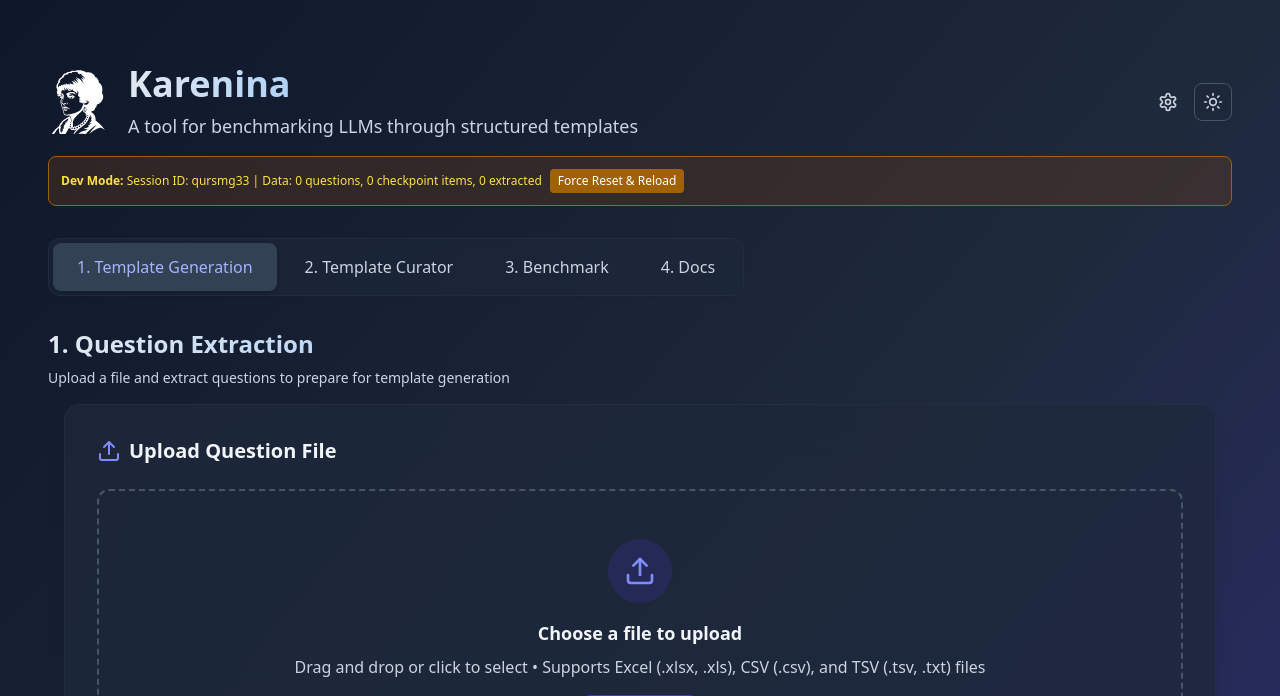
Test: App Component › Error Handling › should show appropriate messages for different empty states
# Curator tab with no question data
Step 1. Click the button "2. Template Curator" → (379, 267), box [281,243,477,291]
(page scrolled)
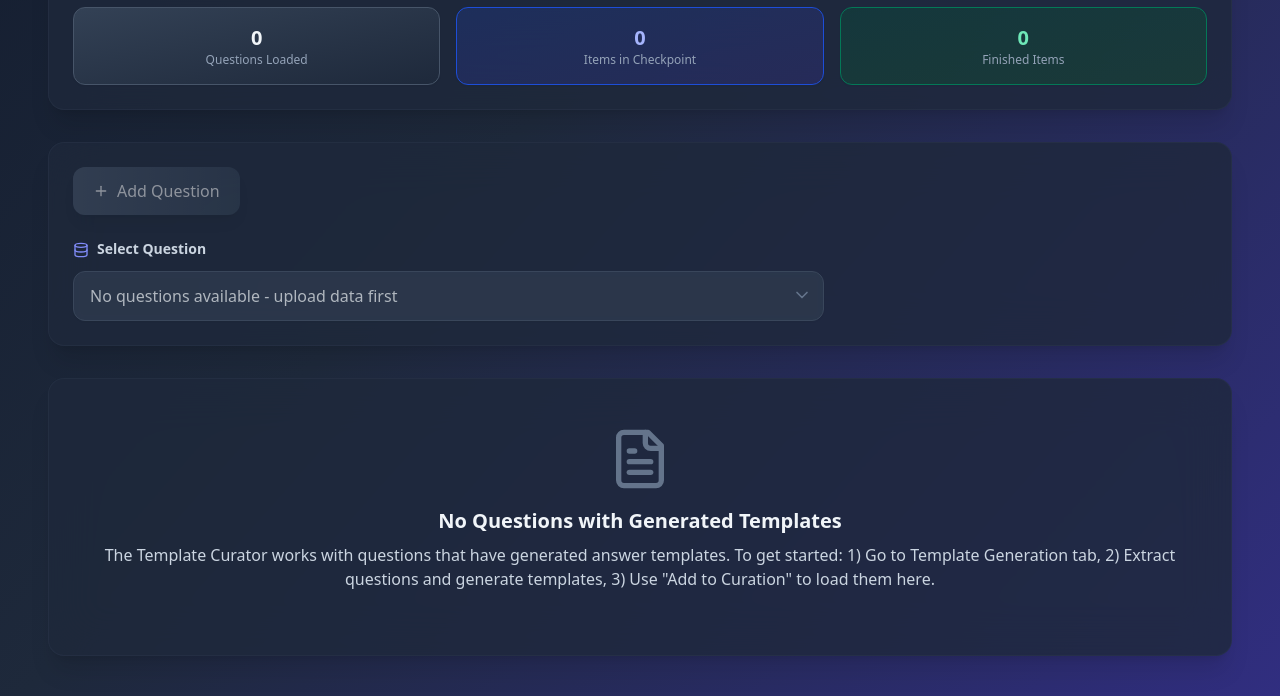
Now the heading "No Questions with Generated Templates" is shown, box [438,507,842,534]
